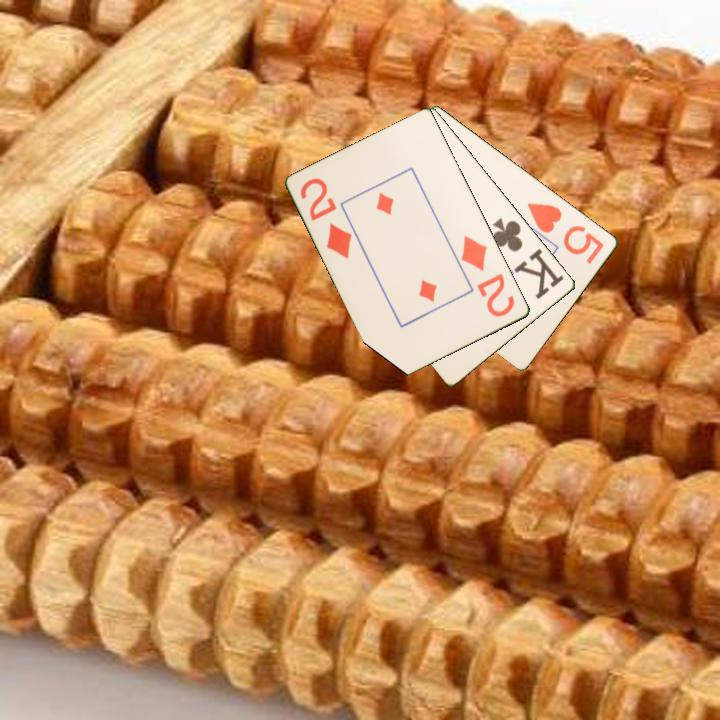2d: (458, 232, 518, 320), (297, 174, 355, 262)
5h: (524, 199, 608, 267)
Kc: (488, 214, 568, 302)
